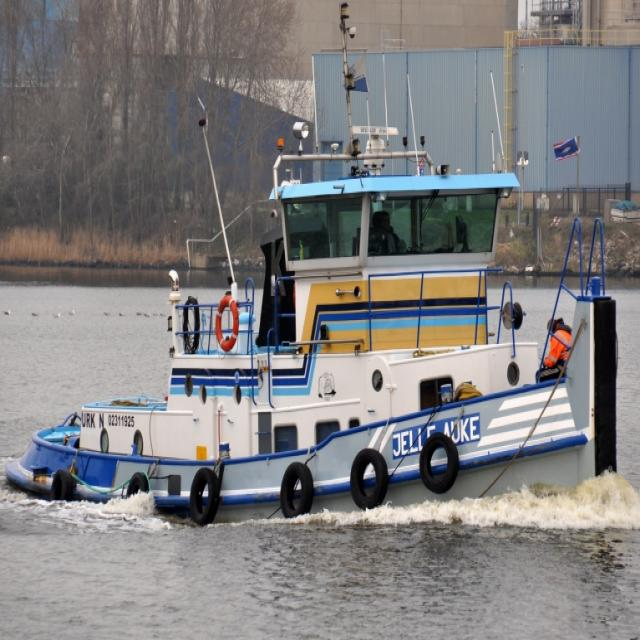tugboat: (3, 118, 626, 552)
